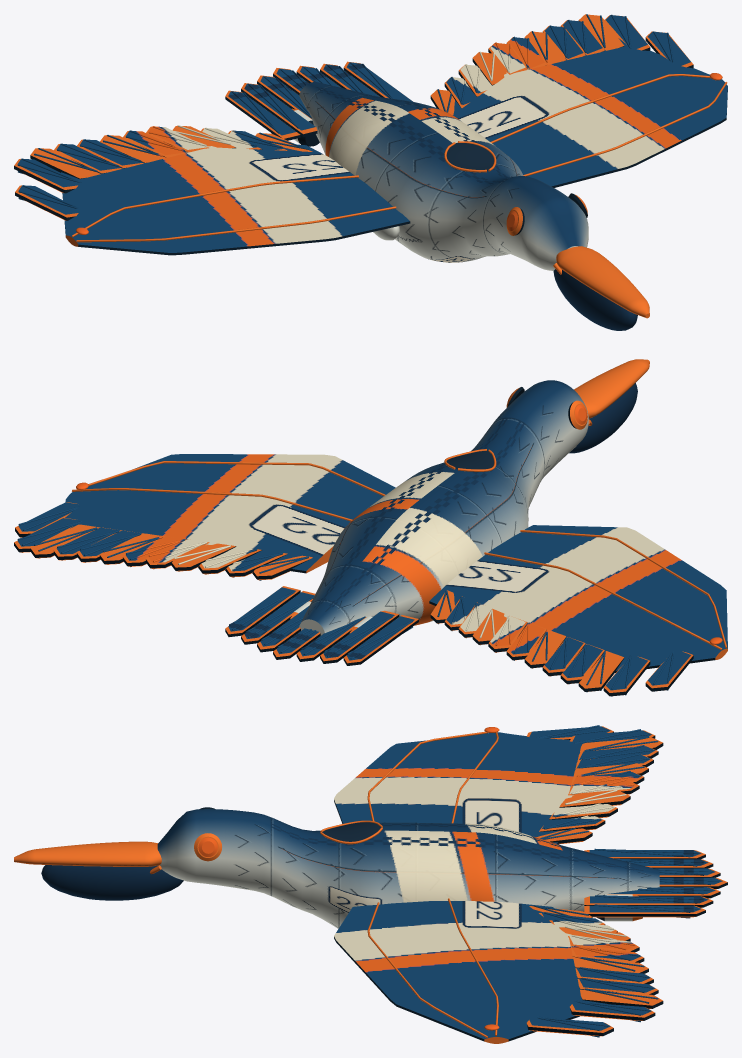
3 renders of one model, top to bottom at view 1: azimuth 30°, elevation 25°; view 2: azimuth 150°, elevation 25°; view 3: azimuth 270°, elevation 25°, orthographic. The views are drawn at different scales.
Parts seen in each view (by area): view 1: pelican_hull; view 2: pelican_hull; view 3: pelican_hull.
Boxes of the visible parts, x1,y1,x2,y2 form: pelican_hull: [14, 14, 727, 330]; pelican_hull: [14, 359, 727, 696]; pelican_hull: [14, 725, 727, 1043].
Size of the model in its own units: 86 by 16.31 by 84.67.
Materials: 1 (1 with a texture image).
